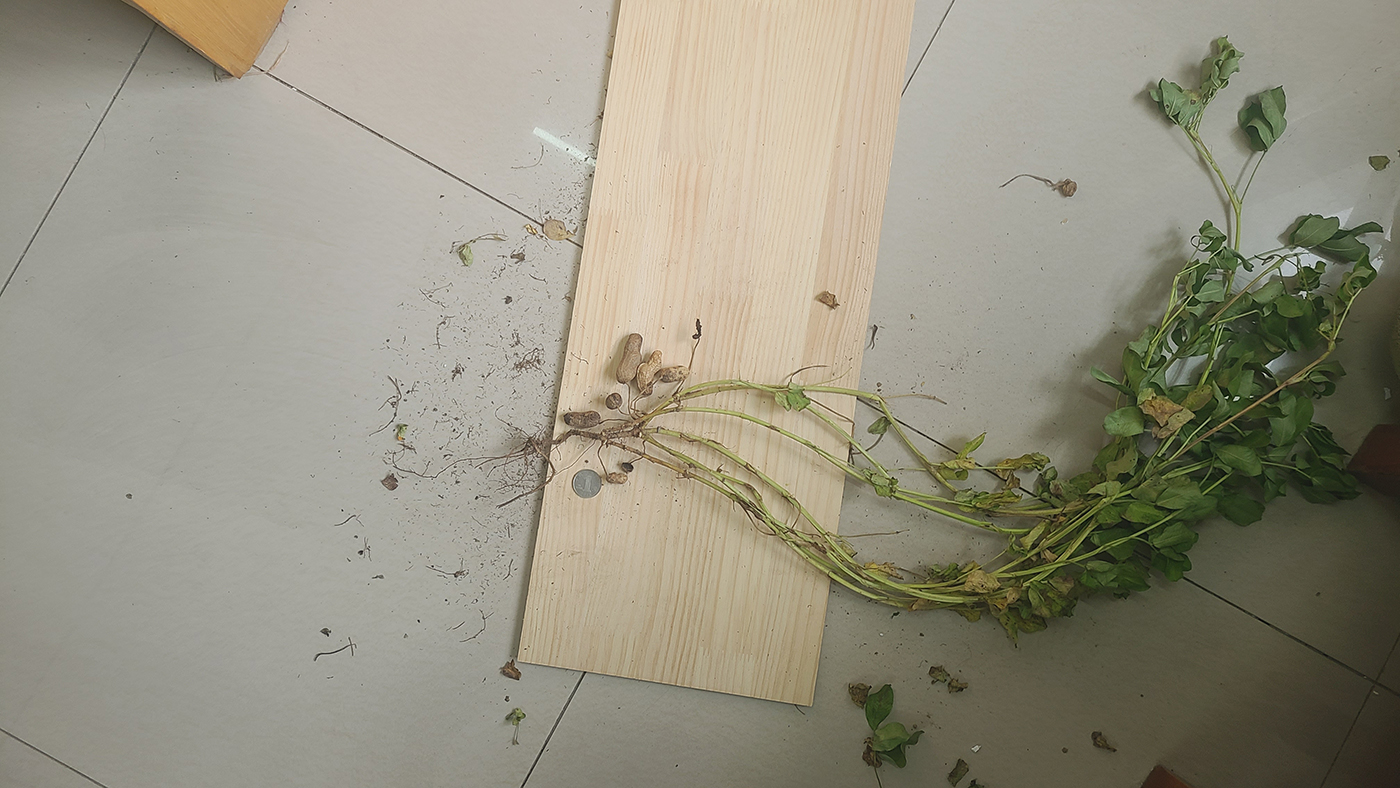h: (637, 350, 665, 396), (618, 333, 639, 384), (656, 366, 690, 384)
l: (564, 411, 602, 428), (606, 472, 629, 485), (605, 393, 622, 410), (621, 461, 634, 473)
